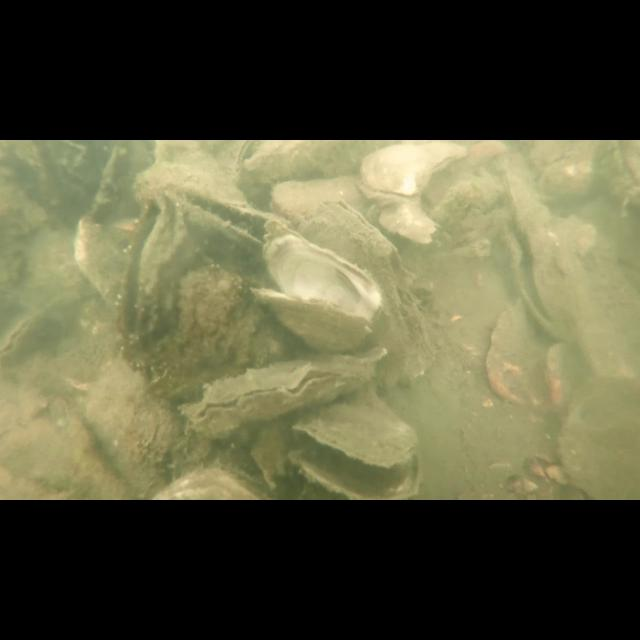Oyster-Closed: (296, 196, 434, 378), (86, 358, 182, 496), (358, 140, 468, 202), (268, 178, 359, 224)
Oyster-Open: (250, 218, 382, 354), (179, 358, 375, 436), (500, 171, 584, 343), (290, 388, 418, 499), (145, 162, 283, 256), (116, 200, 194, 348), (1, 301, 54, 359)
